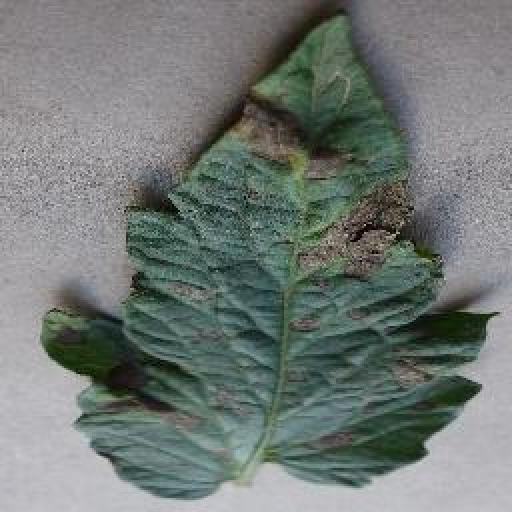disease_tomato: (44, 12, 500, 498)
